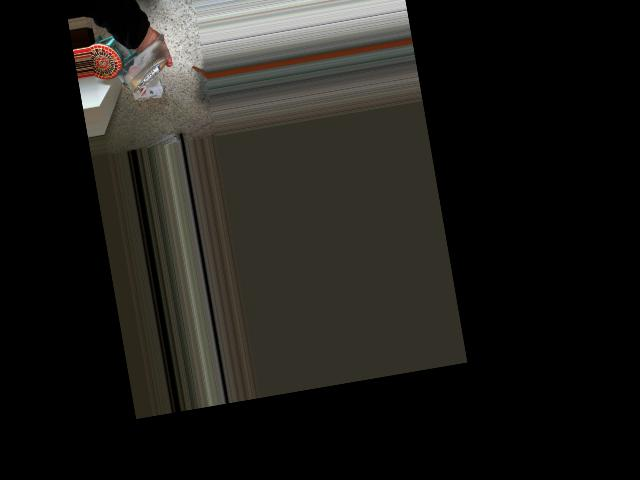cheese: (95, 28, 182, 112)
